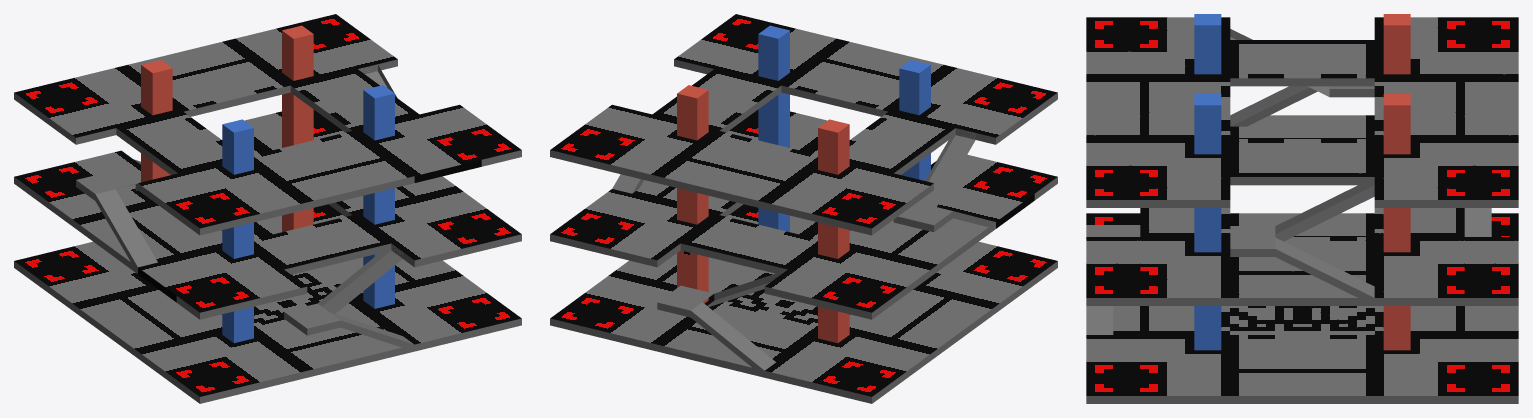
3 renders of one model, left to right at view 1: azimuth 30°, elevation 25°; view 2: azimuth 150°, elevation 25°; view 3: azimuth 270°, elevation 25°, orthographic. The views are drawn at different scales.
Parts seen in each view (by area): view 1: cuboid-col (×5), cube-col (×4); view 2: cuboid-col (×5), cube-col (×4); view 3: cuboid-col (×7), cube-col (×4).
Boxes of the visible parts, left/top/right/bottom form: cuboid-col (×5): left=14, top=14, right=521, bottom=403; cube-col (×4): left=141, top=25, right=394, bottom=343; cuboid-col (×5): left=550, top=14, right=1057, bottom=403; cube-col (×4): left=677, top=25, right=930, bottom=343; cuboid-col (×7): left=1086, top=17, right=1518, bottom=403; cube-col (×4): left=1194, top=14, right=1410, bottom=350.
Size of the model in its own units: 3 by 1.94 by 3.
4 materials, 4 textured.
